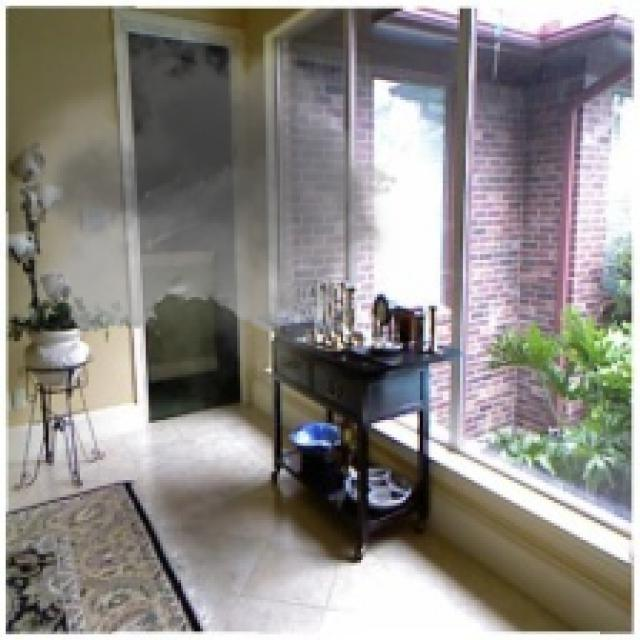Smoke: (9, 8, 412, 414)
